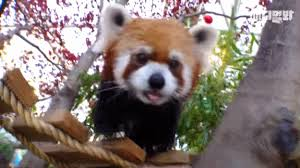redPanda: (87, 3, 214, 157)
